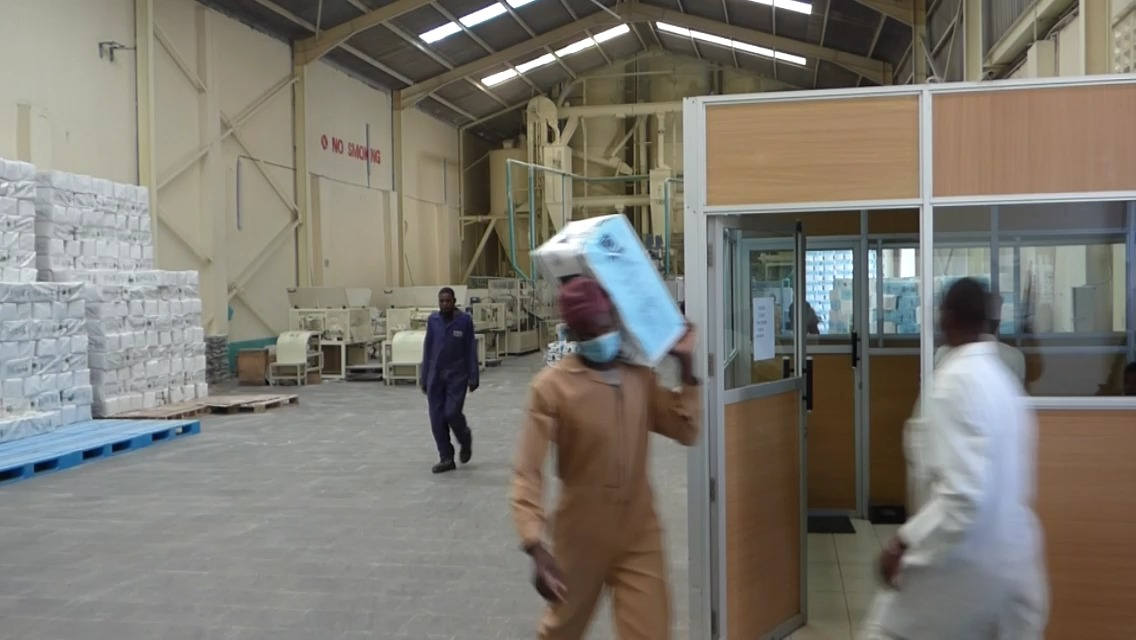wheat_flour_blue_label: (536, 212, 686, 364)
